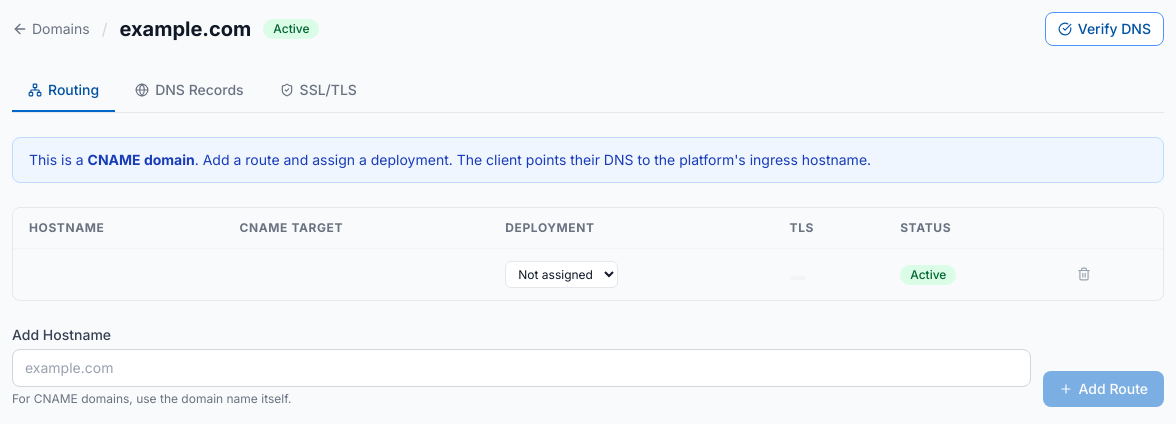
Test: DNS Records tab › renders DNS records table
The width and height of the screenshot is (1176, 424).
Click the button with test id "tab-dns" at (189, 91), box [119,70,260,112]
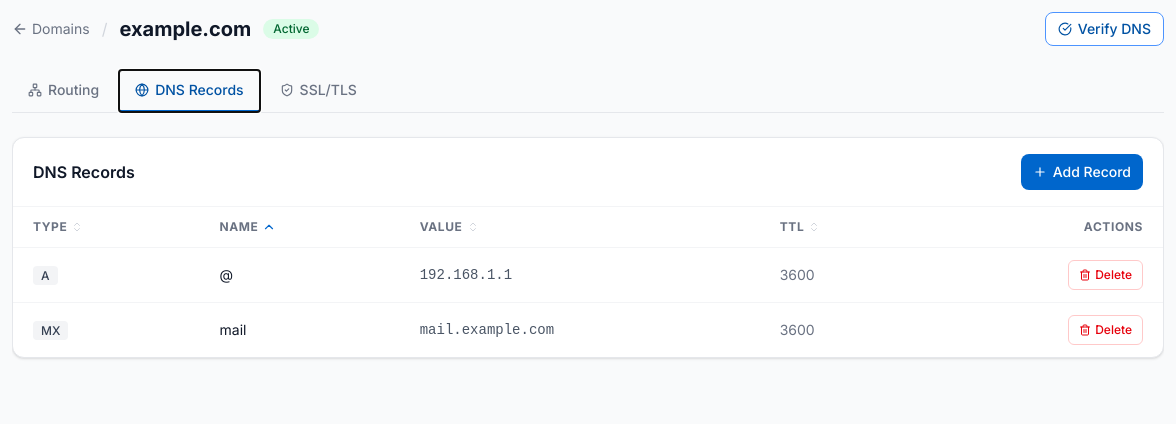
Result: the table with test id "dns-records-table" is shown at [13,207,1163,357]
Result: the text "192.168.1.1" is shown at [400,248,760,302]
Result: the text "mail.example.com" is shown at [400,302,760,357]
